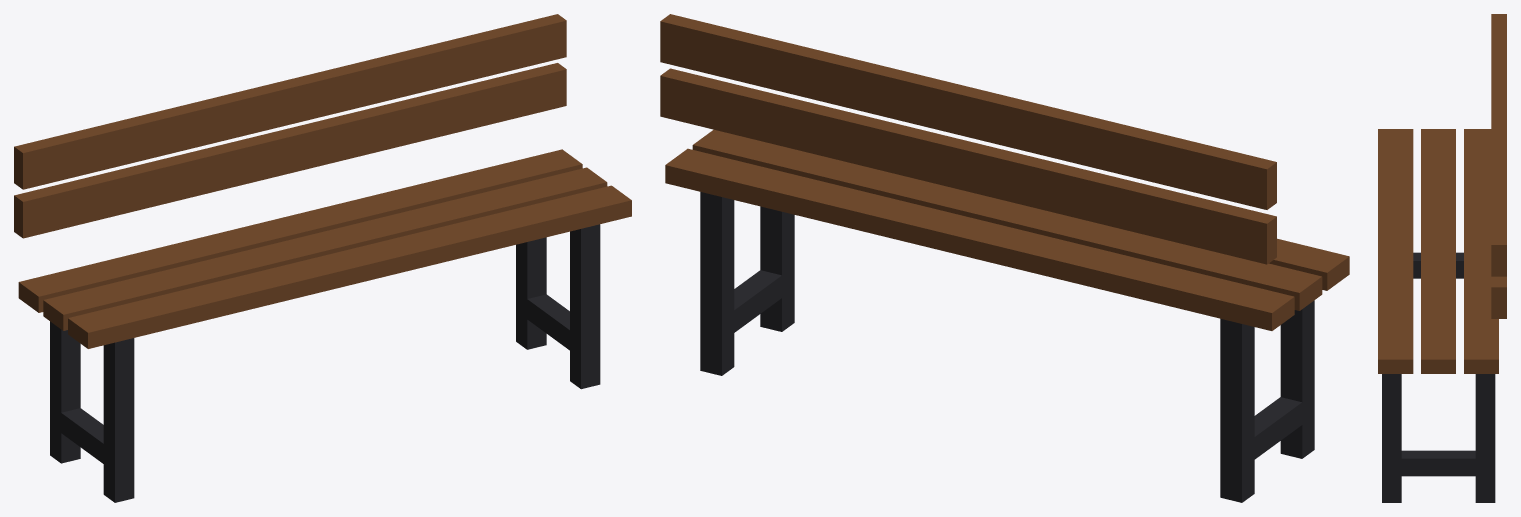
File: bench.obj
3 views of the same model, side by side, from view 1: azimuth 30°, elevation 25°; view 2: azimuth 150°, elevation 25°; view 3: azimuth 270°, elevation 25° (orthographic). The views are drawn at different scales.
Visible parts, largest first — view 1: bench; view 2: bench; view 3: bench.
Boxes of the visible parts, <box> form: bench: <box>14,14,631,502</box>; bench: <box>660,14,1349,502</box>; bench: <box>1378,14,1506,502</box>.
Size of the model in its own units: 1.4 by 0.765 by 0.33.
